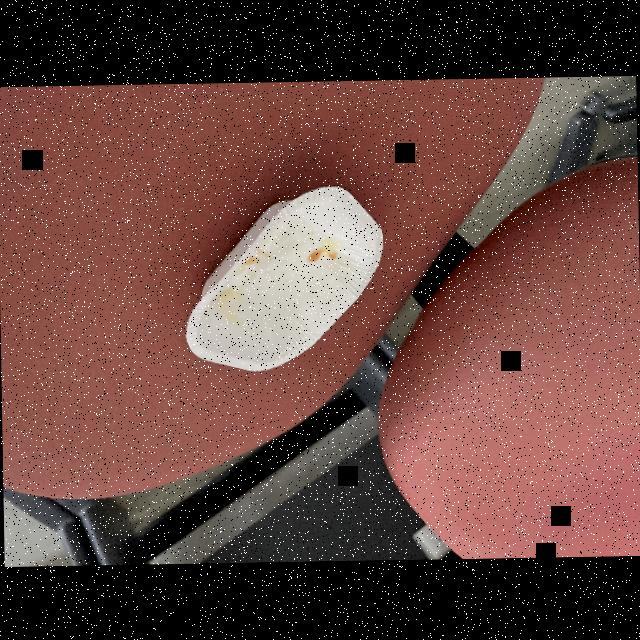cardboard_bowl: (174, 172, 397, 390)
